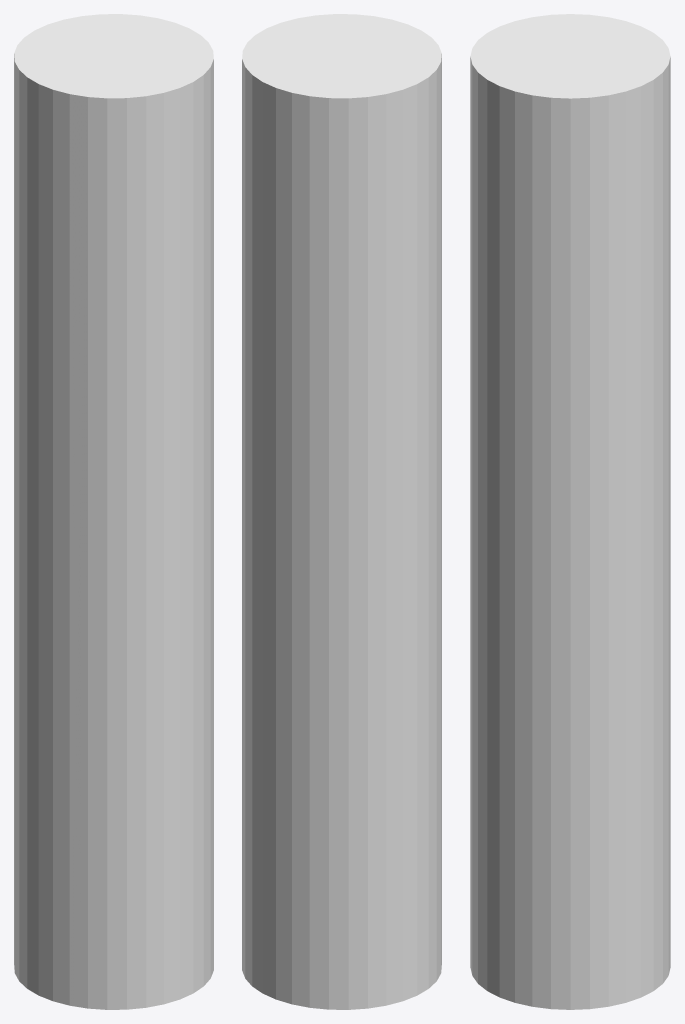
File: PredictionCylinder.obj
3 renders of one model, left to right at view 1: azimuth 30°, elevation 25°; view 2: azimuth 150°, elevation 25°; view 3: azimuth 270°, elevation 25°, orthographic.
Parts seen in each view (by area): view 1: 円柱; view 2: 円柱; view 3: 円柱.
Part boxes in pixels (bbox=[...]): 円柱: bbox=[14, 14, 213, 1009]; 円柱: bbox=[242, 14, 441, 1009]; 円柱: bbox=[470, 14, 670, 1009].
Bounding box in the file's own units: 2 × 10.05 × 2.
1 material, 1 textured.
